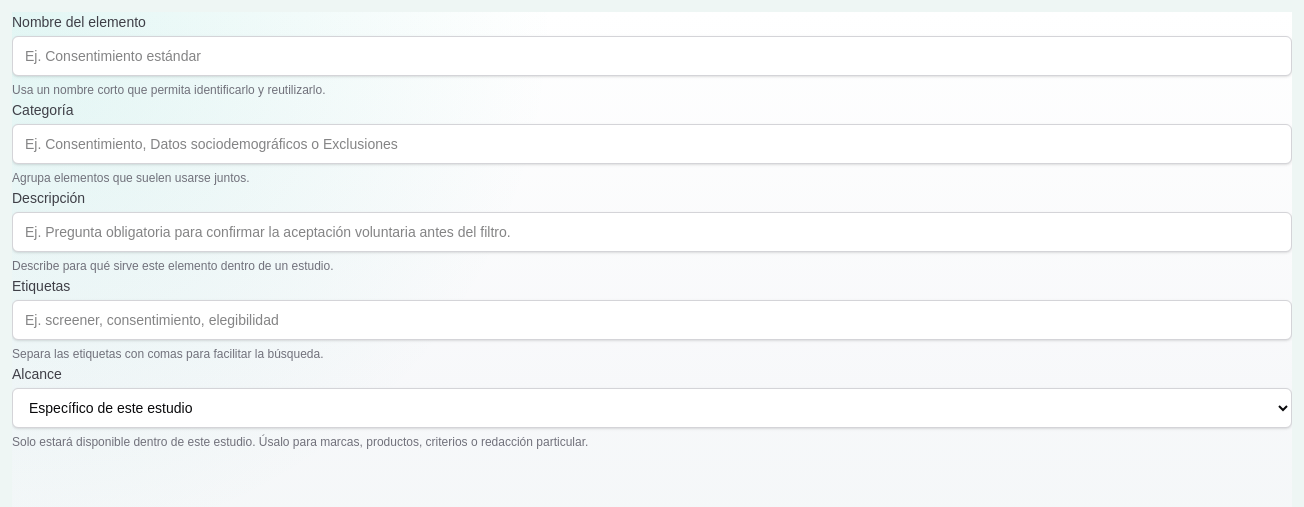
Test: LibrarySaveFields › limpia la confirmacion al cambiar de generico a especifico
This screenshot has width=1304, height=507.
Step 1. Select "Genérico" in the dropdown labelled "Alcance" → (652, 408), box left=12, top=388, right=1292, bottom=428
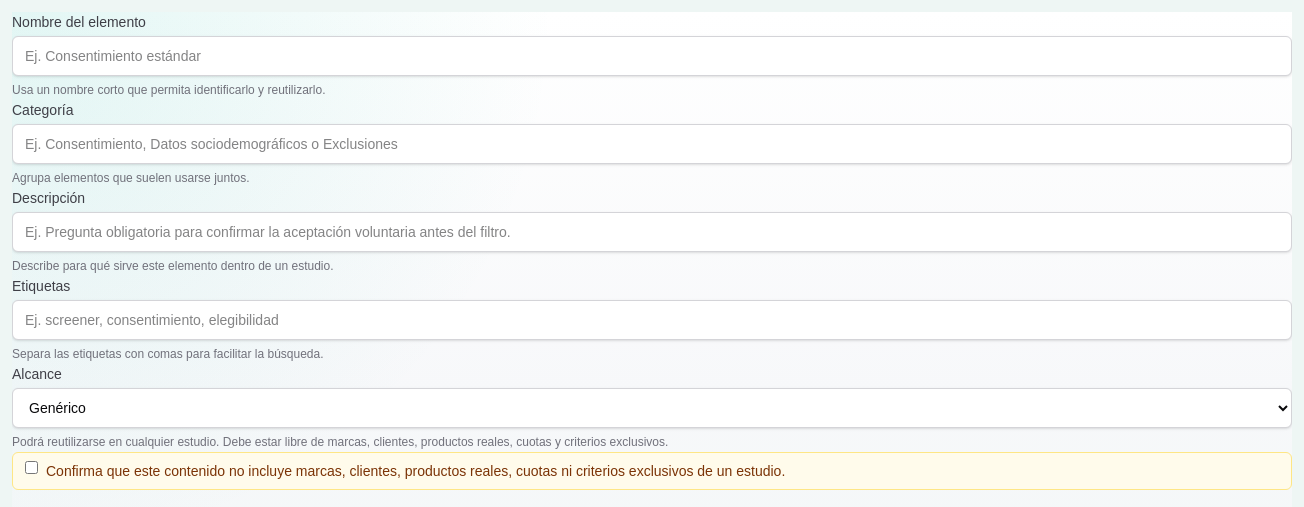
Step 2. Click the checkbox named "Confirma que este contenido no incluye marcas, clientes, productos reales, cuotas ni criterios exclusivos de un estudio." → (32, 468), box left=25, top=461, right=38, bottom=474
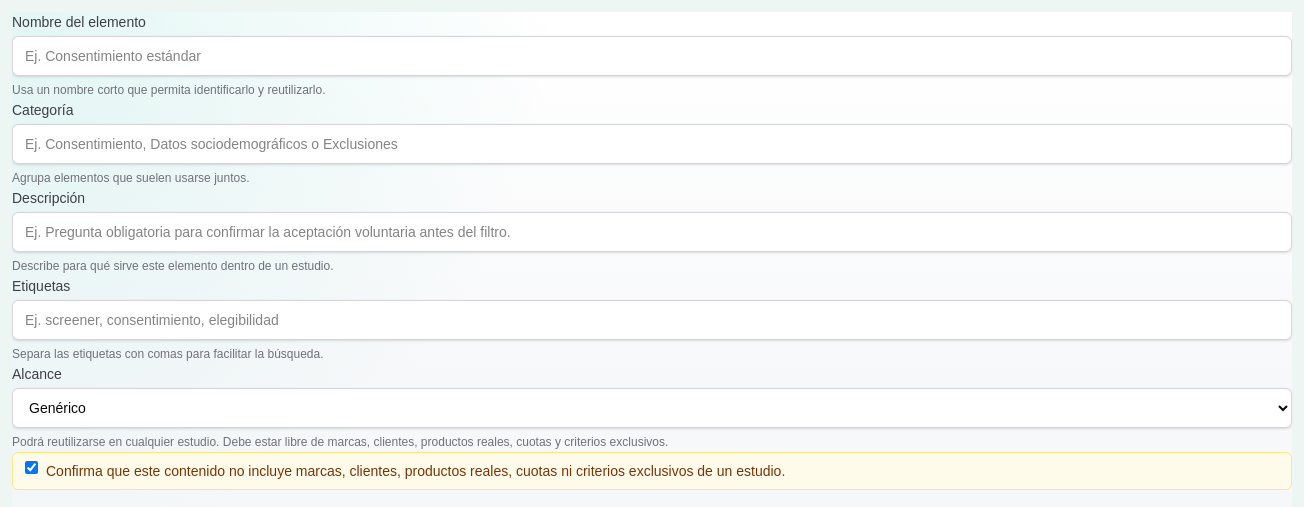
Check: the checkbox named "Confirma que este contenido no incluye marcas, clientes, productos reales, cuotas ni criterios exclusivos de un estudio." is checked, box left=25, top=461, right=38, bottom=474
Step 3. Select "Específico de este estudio" in the dropdown labelled "Alcance" → (652, 408), box left=12, top=388, right=1292, bottom=428
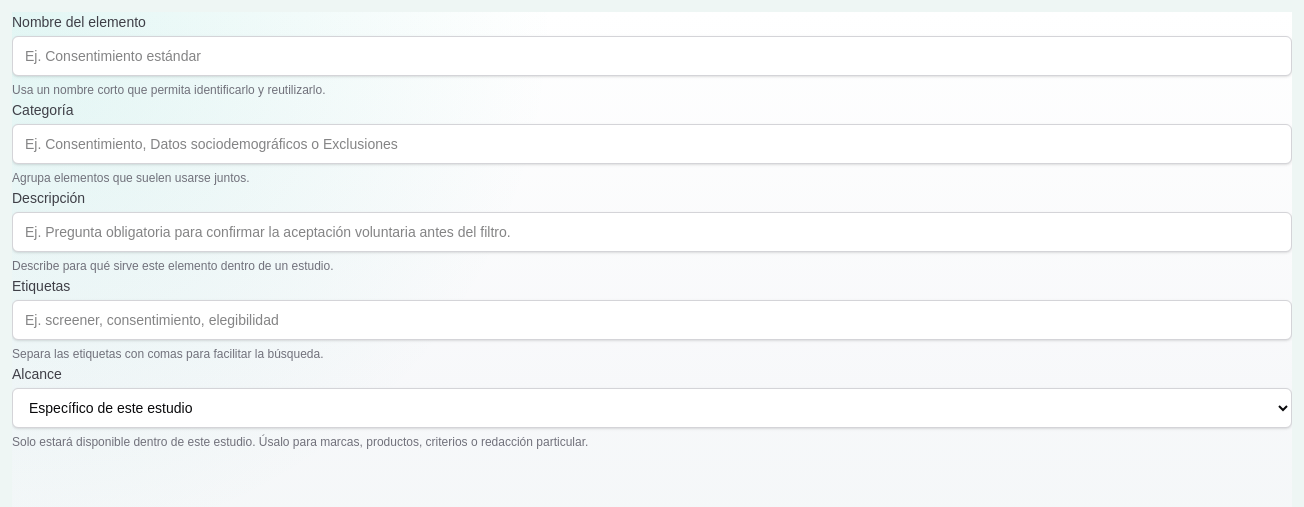
Check: the text labelled "Confirma que este contenido no incluye marcas, clientes, productos reales, cuotas ni criterios exclusivos de un estudio." is gone
Step 4. Select "Genérico" in the dropdown labelled "Alcance" → (652, 408), box left=12, top=388, right=1292, bottom=428
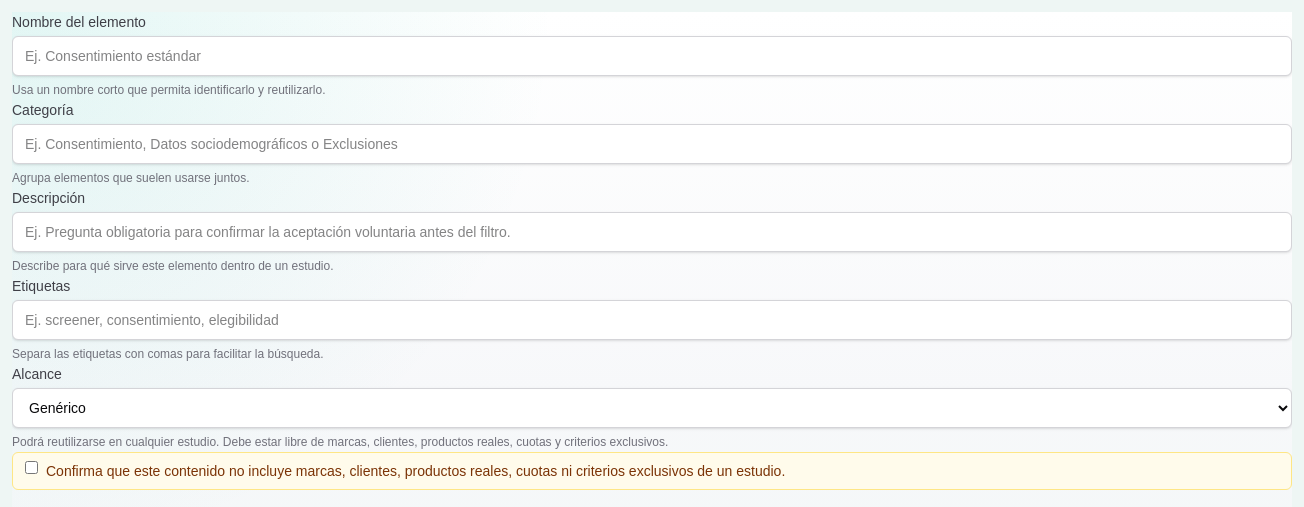
Check: the checkbox named "Confirma que este contenido no incluye marcas, clientes, productos reales, cuotas ni criterios exclusivos de un estudio." is not checked, box left=25, top=461, right=38, bottom=474
